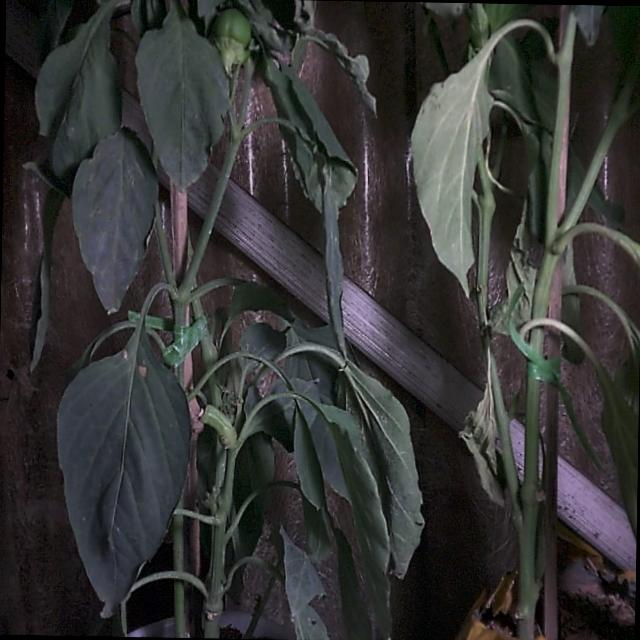Leaf: (57, 327, 190, 616), (411, 49, 492, 294), (136, 1, 229, 189), (35, 0, 125, 176), (72, 129, 158, 313), (281, 528, 328, 639)
